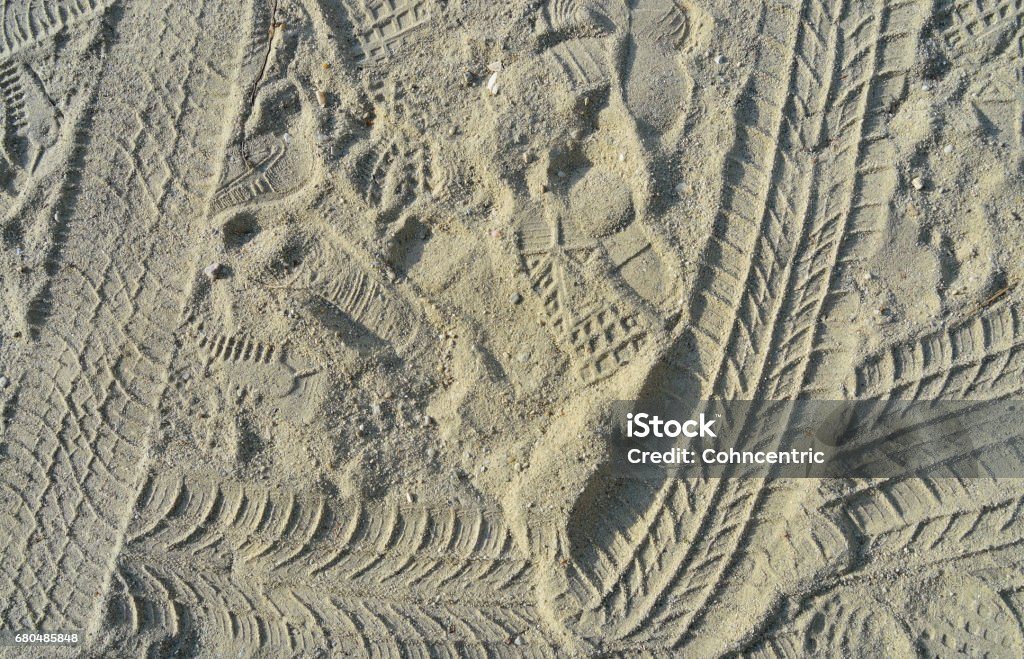vehicle_track: (0, 2, 232, 629), (642, 1, 923, 404), (111, 473, 552, 655), (0, 0, 113, 60)
